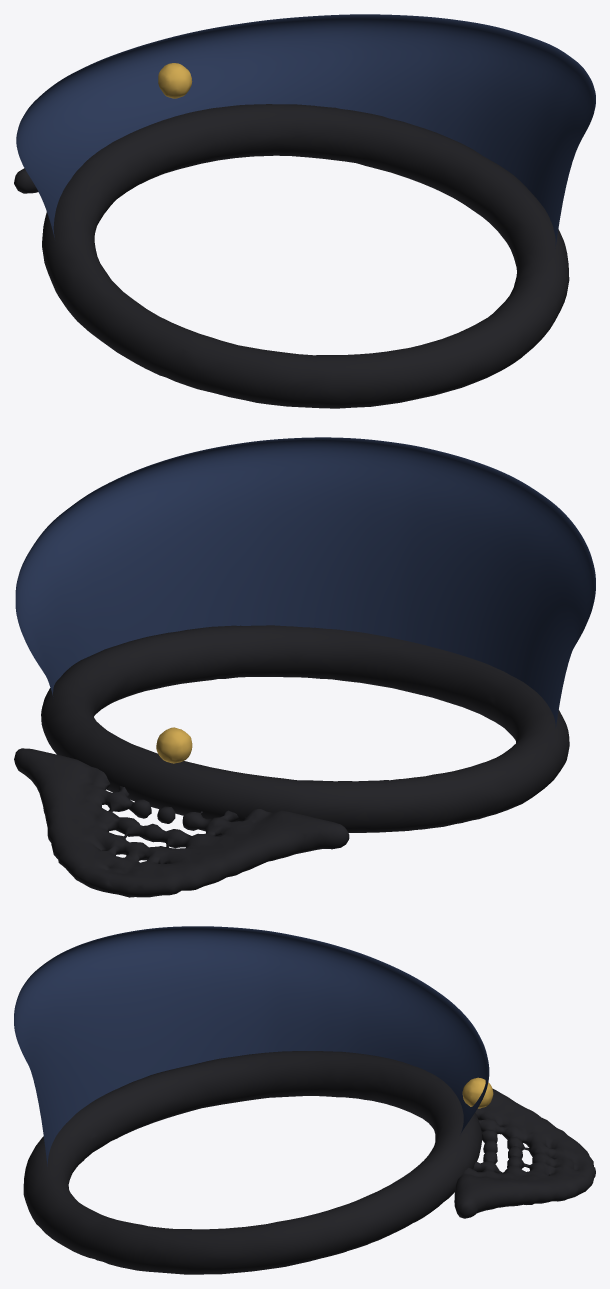
The model's file is cap_driver_f.glb.
3 renders of one model, top to bottom at view 1: azimuth 30°, elevation 25°; view 2: azimuth 150°, elevation 25°; view 3: azimuth 270°, elevation 25°, orthographic. The views are drawn at different scales.
Parts seen in each view (by area): view 1: Acc_cap_driver_CapBand, Acc_cap_driver_Cap, Acc_cap_driver_CapBadge; view 2: Acc_cap_driver_Cap, Acc_cap_driver_CapBand, Acc_cap_driver_CapVisor, Acc_cap_driver_CapBadge; view 3: Acc_cap_driver_Cap, Acc_cap_driver_CapBand, Acc_cap_driver_CapVisor, Acc_cap_driver_CapBadge.
Part boxes in pixels (box(x1,y1,x2,y2)): Acc_cap_driver_CapBand: box(42, 104, 569, 408); Acc_cap_driver_Cap: box(16, 14, 595, 248); Acc_cap_driver_CapBadge: box(158, 63, 192, 98); Acc_cap_driver_Cap: box(15, 437, 595, 728); Acc_cap_driver_CapBand: box(41, 625, 569, 832); Acc_cap_driver_CapVisor: box(14, 748, 349, 897); Acc_cap_driver_CapBadge: box(156, 727, 192, 763); Acc_cap_driver_Cap: box(14, 926, 489, 1166); Acc_cap_driver_CapBand: box(23, 1051, 482, 1274); Acc_cap_driver_CapVisor: box(454, 1088, 595, 1218); Acc_cap_driver_CapBadge: box(462, 1077, 493, 1108).
Bounding box in the file's own units: 0.4428 × 0.1949 × 0.5089.
